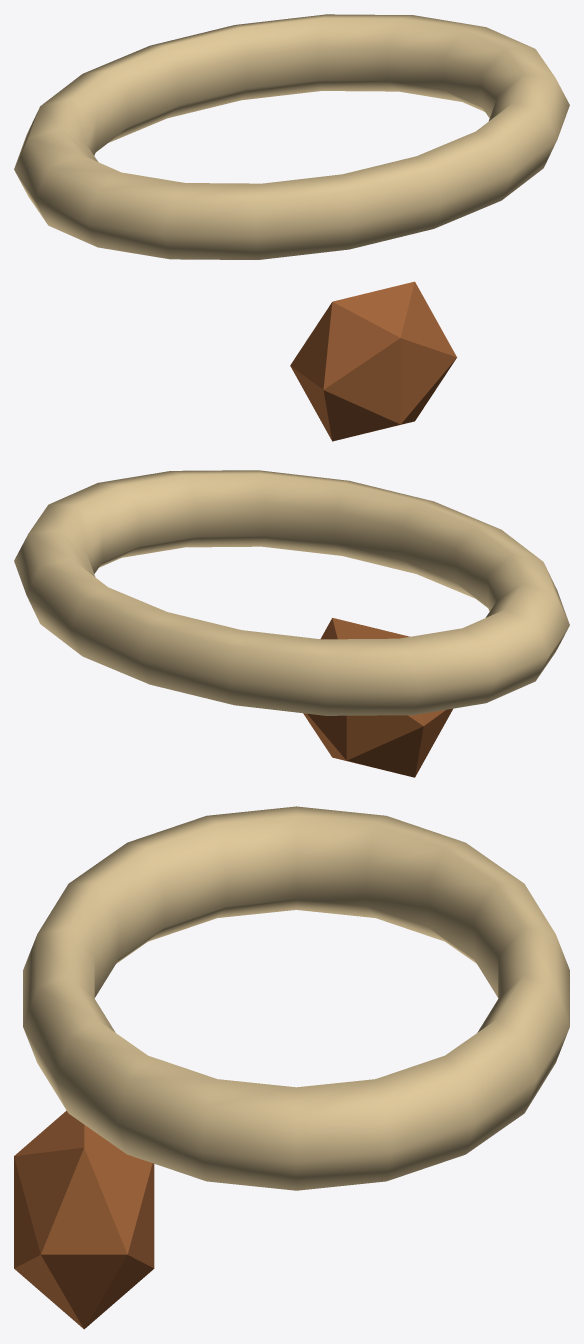
The model's file is wearable.glb.
3 renders of one model, top to bottom at view 1: azimuth 30°, elevation 25°; view 2: azimuth 150°, elevation 25°; view 3: azimuth 270°, elevation 25°, orthographic. The views are drawn at different scales.
Parts seen in each view (by area): view 1: wearable_band, wearable_charm; view 2: wearable_band, wearable_charm; view 3: wearable_band, wearable_charm.
Boxes of the visible parts, <box> form: wearable_band: <box>14,14,569,259</box>; wearable_charm: <box>290,281,456,441</box>; wearable_band: <box>14,470,569,715</box>; wearable_charm: <box>303,618,452,777</box>; wearable_band: <box>23,806,569,1190</box>; wearable_charm: <box>14,1110,154,1329</box>.
Bounding box in the file's own units: 0.654 × 0.3289 × 0.4714.
